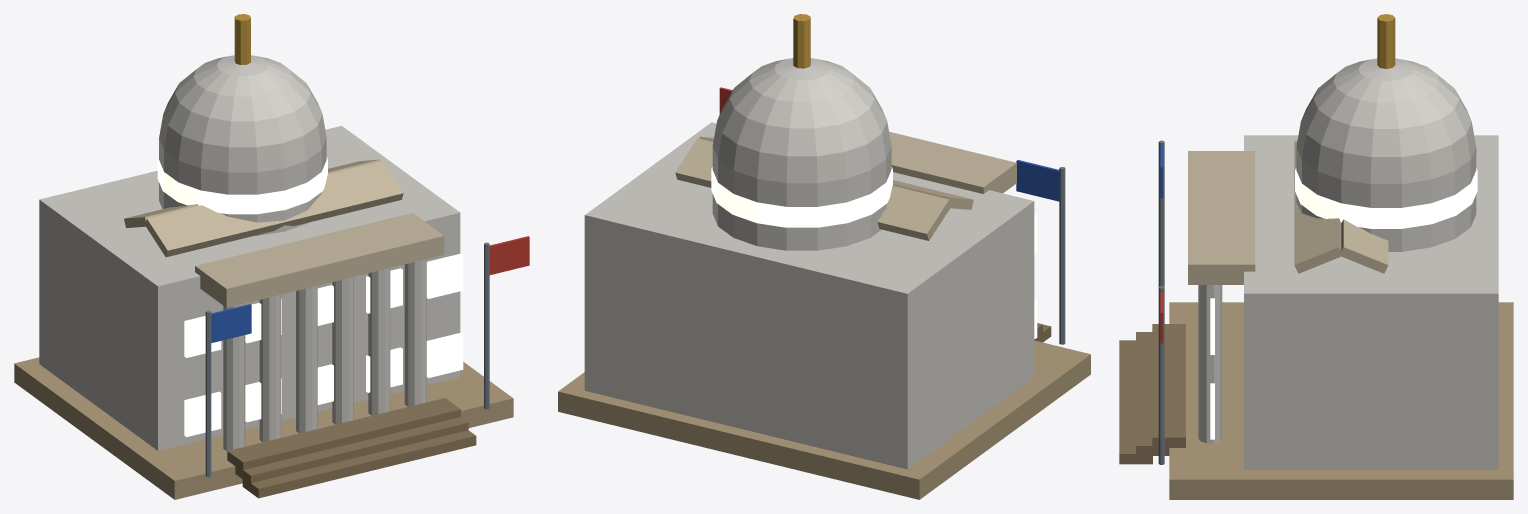
Rendered from iam-city-hall.glb.
The picture shows the model from 3 angles, left to right: view 1: azimuth 30°, elevation 25°; view 2: azimuth 150°, elevation 25°; view 3: azimuth 270°, elevation 25°; orthographic projection. The views are drawn at different scales.
Parts seen in each view (by area): view 1: cw_paint, cw_glow; view 2: cw_paint, cw_glow; view 3: cw_paint, cw_glow.
Part boxes in pixels (<box>): cw_paint: <box>14,14,529,499</box>; cw_glow: <box>157,157,463,437</box>; cw_paint: <box>558,14,1090,499</box>; cw_glow: <box>711,167,1037,338</box>; cw_paint: <box>1119,14,1513,499</box>; cw_glow: <box>1210,168,1477,439</box>.
Size of the model in its own units: 5.8 by 5.8 by 5.27.
